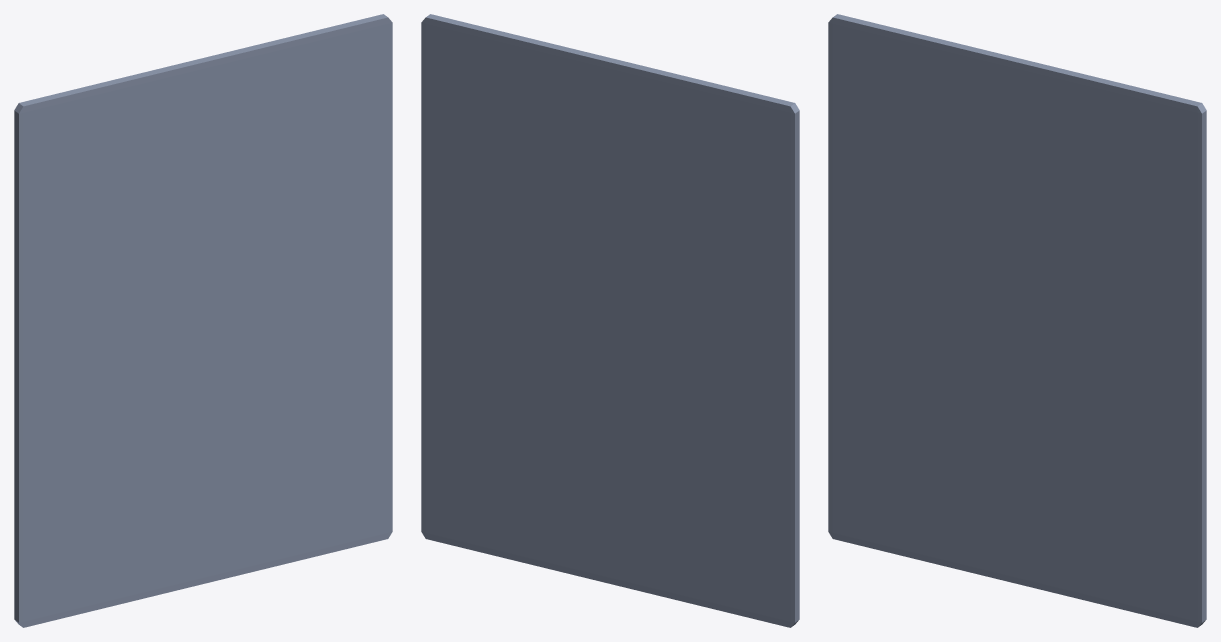
Rendered from RackBackPanel.glb.
The picture shows the model from 3 angles, left to right: view 1: azimuth 30°, elevation 25°; view 2: azimuth 150°, elevation 25°; view 3: azimuth 330°, elevation 25°; orthographic projection.
Visible parts, largest first — view 1: Panel; view 2: Panel; view 3: Panel.
Boxes of the visible parts, x1,y1,x2,y2 form: Panel: (14, 14, 392, 627); Panel: (421, 14, 799, 627); Panel: (828, 14, 1206, 627).
Bounding box in the file's own units: 1.8 × 2.4 × 0.04.
